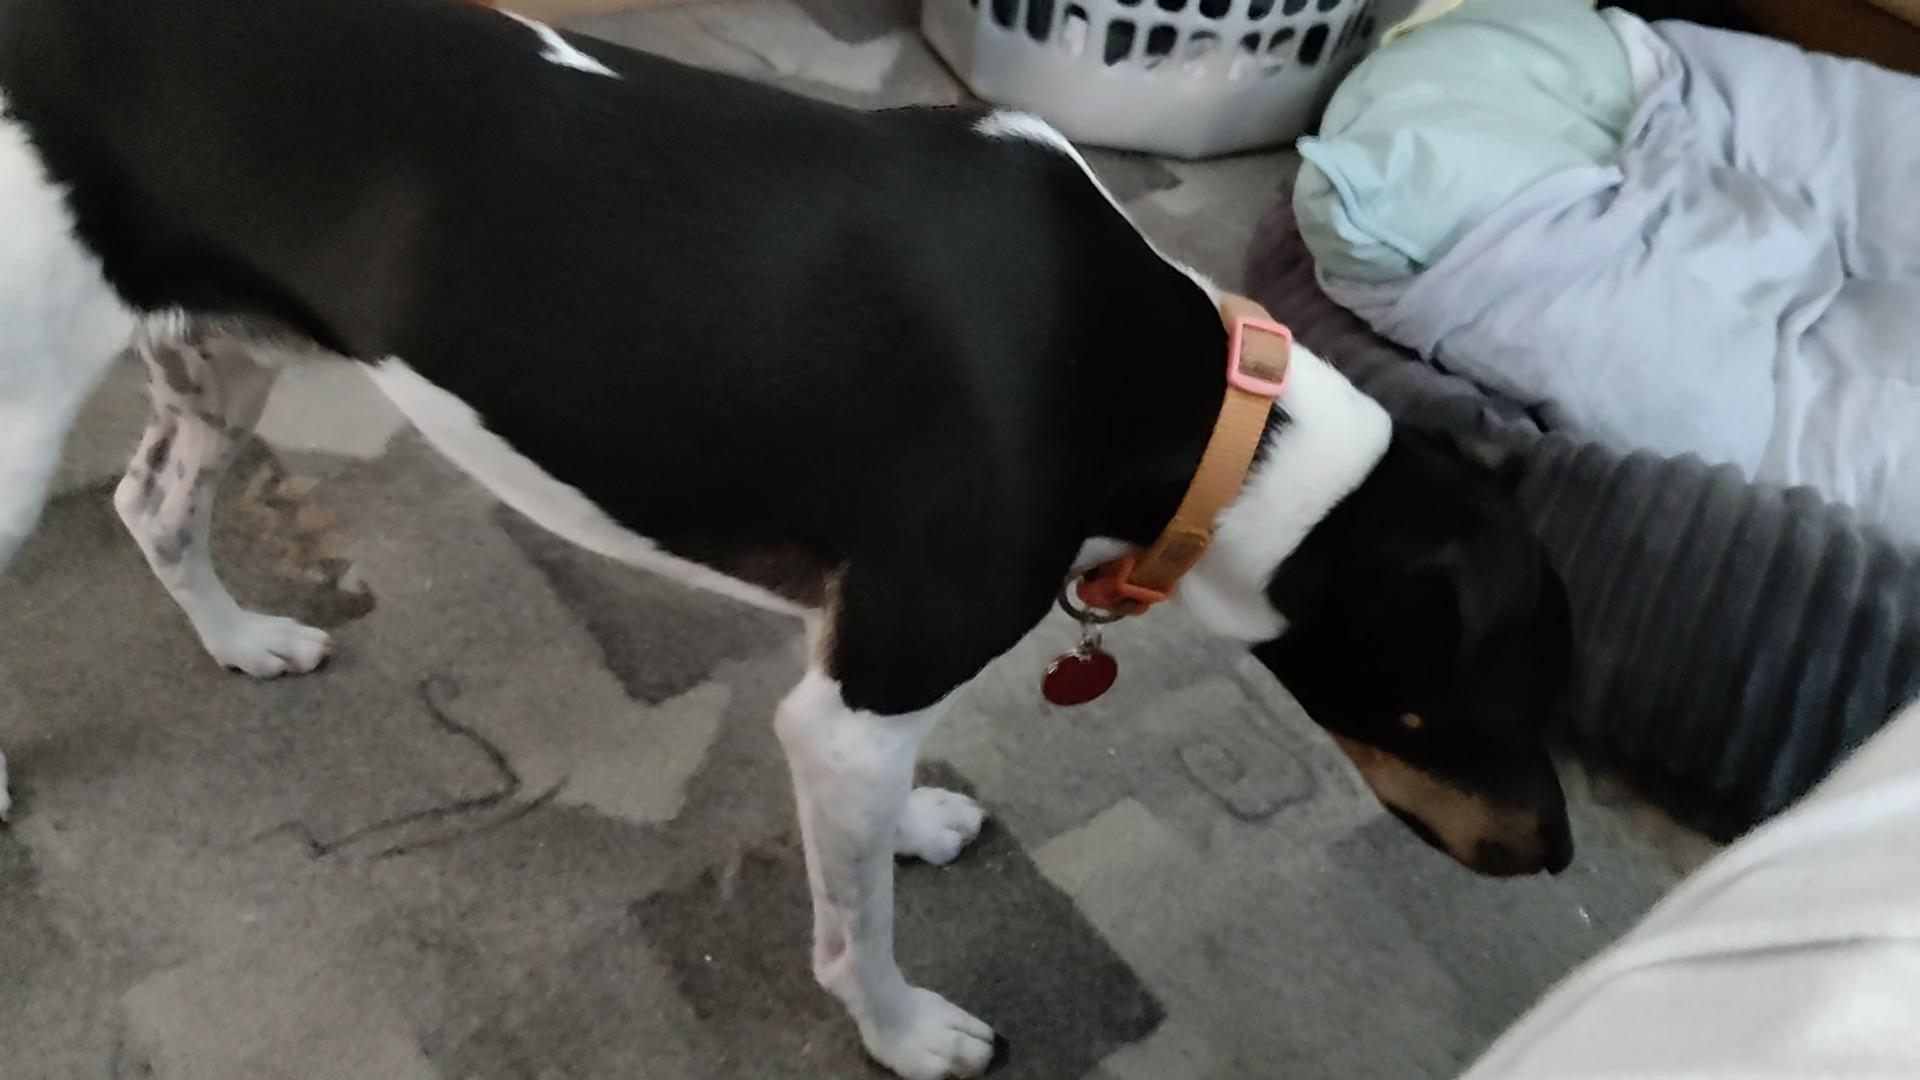Dog: (0, 0, 1596, 1080)
